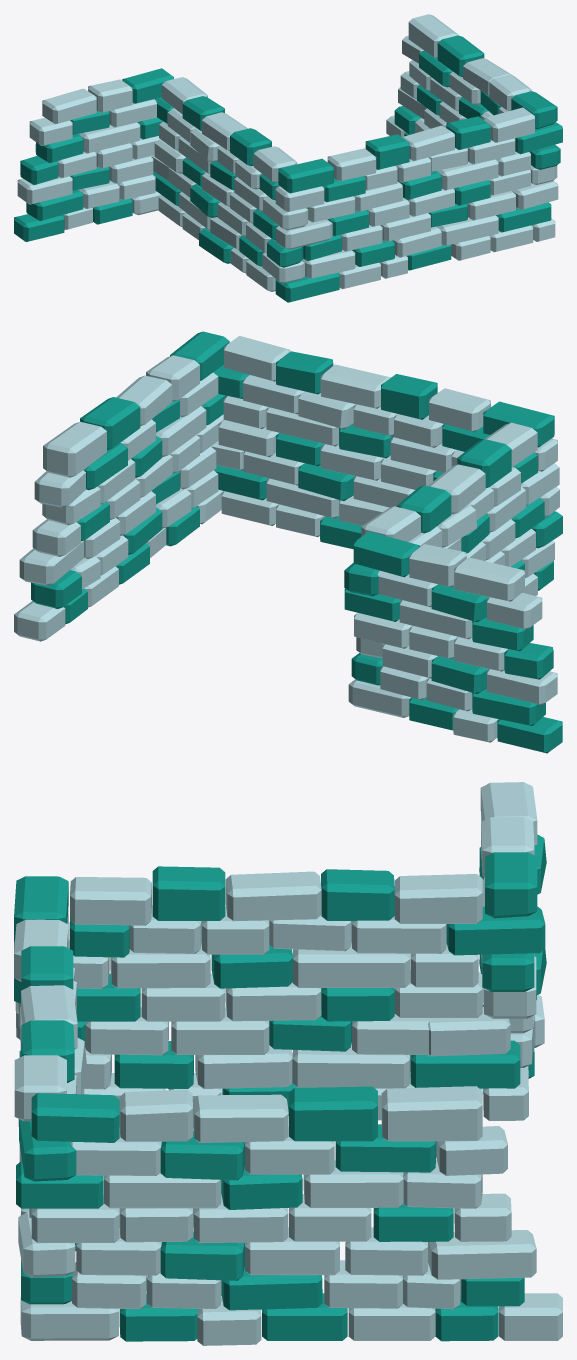
Rendered from SM_Wall2.fbx.
3 views of the same model, one above another, from view 1: azimuth 30°, elevation 25°; view 2: azimuth 150°, elevation 25°; view 3: azimuth 270°, elevation 25° (orthographic). The views are drawn at different scales.
Visible parts, largest first — view 1: Wall02; view 2: Wall02; view 3: Wall02.
Boxes of the visible parts, left/top/right/bottom form: Wall02: left=14, top=14, right=562, bottom=302; Wall02: left=14, top=331, right=562, bottom=753; Wall02: left=14, top=782, right=562, bottom=1345.
Bounding box in the file's own units: 992 × 305 × 632.
